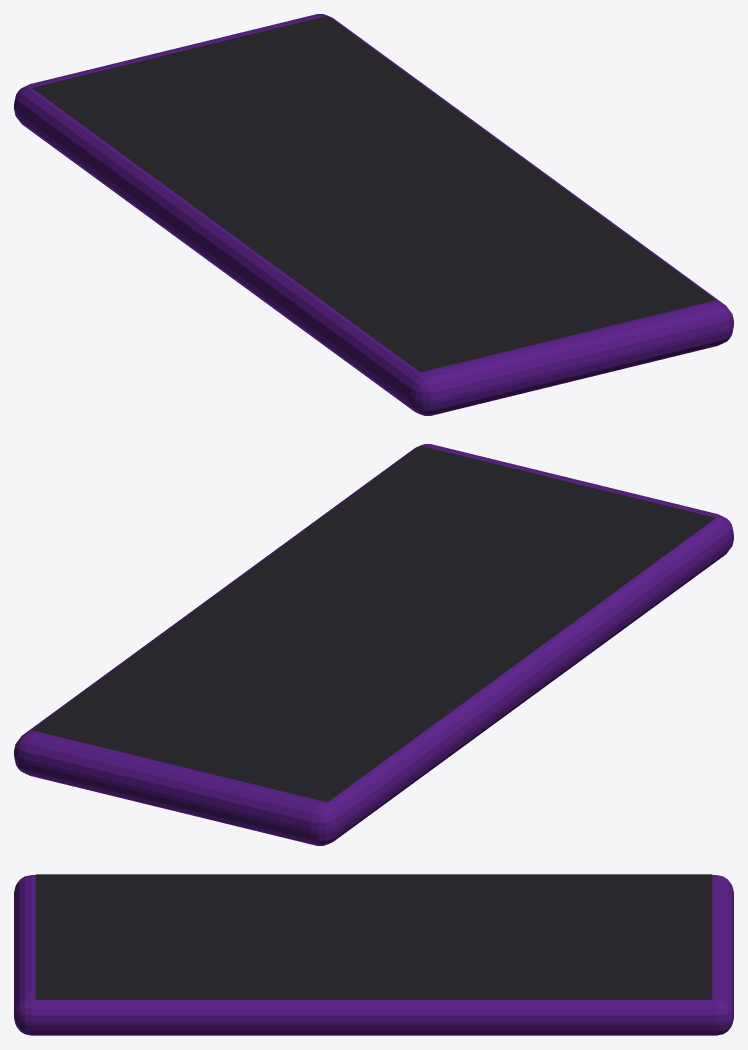
Rendered from Phone_800.glb.
3 renders of one model, top to bottom at view 1: azimuth 30°, elevation 25°; view 2: azimuth 150°, elevation 25°; view 3: azimuth 270°, elevation 25°, orthographic. The views are drawn at different scales.
Visible parts, largest first — view 1: Phone_Screen, Phone_Body; view 2: Phone_Screen, Phone_Body; view 3: Phone_Screen, Phone_Body.
Boxes of the visible parts, left/top/right/bottom form: Phone_Screen: left=32, top=15, right=715, bottom=372; Phone_Body: left=14, top=14, right=733, bottom=415; Phone_Screen: left=32, top=445, right=715, bottom=802; Phone_Body: left=14, top=444, right=733, bottom=845; Phone_Screen: left=35, top=874, right=712, bottom=999; Phone_Body: left=14, top=875, right=733, bottom=1035.
Size of the model in its own units: 0.0754 by 0.0093 by 0.1679.
